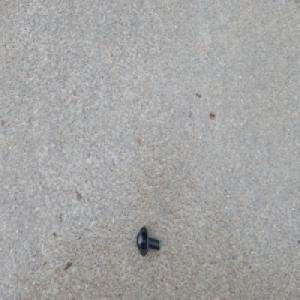BoltWasher: (135, 226, 160, 257)
